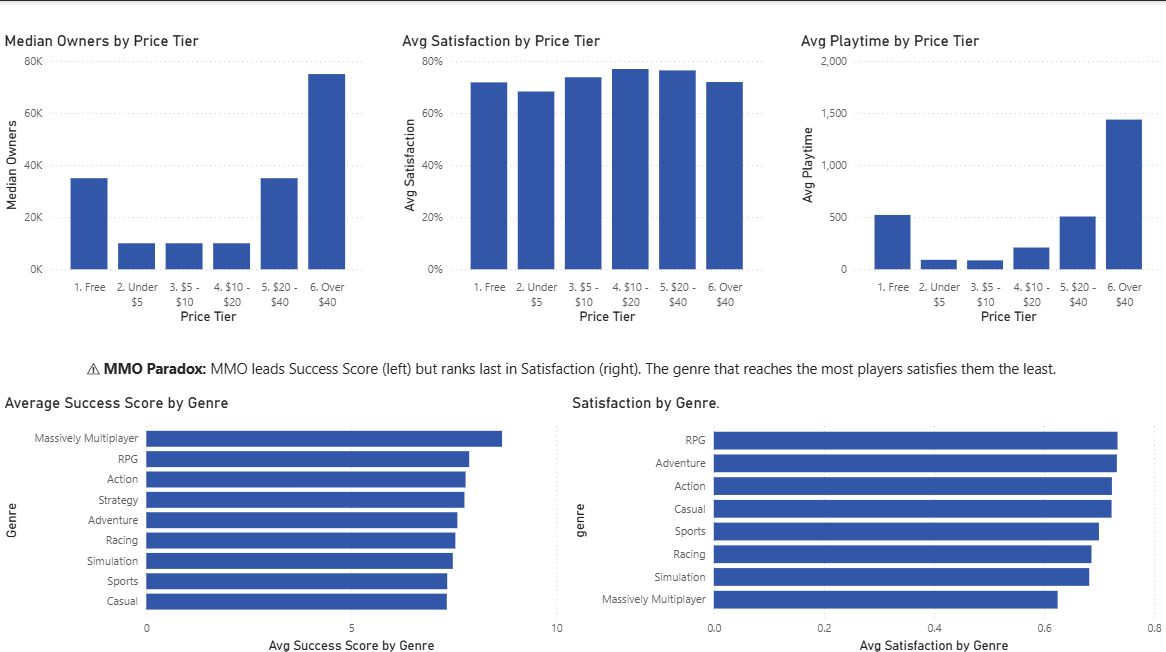

The dashboard page shown, as its layout file describes it:
{"tool":"powerbi","page":{"name":"Success Drivers","canvas":[1280,720],"ordinal":1},"visuals":[{"type":"clusteredColumnChart","fields":{"Category":["games.Price Tier"],"Y":["_Measures.Median Owners"]},"box":[0,32.9,406.2,326.6],"z":0},{"type":"clusteredColumnChart","fields":{"Category":["games.Price Tier"],"Y":["_Measures.Avg Satisfaction"]},"box":[436.4,32.9,406.2,326.6],"z":1000},{"type":"clusteredColumnChart","fields":{"Category":["games.Price Tier"],"Y":["_Measures.Avg Playtime"]},"box":[874.1,32.9,406.2,326.6],"z":2000},{"type":"barChart","title":"Average Success Score by Genre","fields":{"Category":["game_genres.genre"],"Y":["_Measures.Avg Success Score by Genre"]},"box":[0,430.9,623,289.5],"z":3000},{"type":"textbox","box":[90.6,387,1099.1,34.3],"z":4000},{"type":"clusteredBarChart","title":"Satisfaction by Genre.","fields":{"Y":["_Measures.Avg Satisfaction by Genre"],"Category":["game_genres.genre"]},"box":[623,430.9,657.3,289.5],"z":5000}]}

Visuals, with their boxes in screenshot pixels (x1, y1, x2, y2), scaled from the page's 1280x720 canvas onto the 1166x652 screenshot:
clusteredColumnChart - games.Price Tier x _Measures.Median Owners: bbox=[0, 30, 370, 326]
clusteredColumnChart - games.Price Tier x _Measures.Avg Satisfaction: bbox=[398, 30, 768, 326]
clusteredColumnChart - games.Price Tier x _Measures.Avg Playtime: bbox=[796, 30, 1165, 326]
"Average Success Score by Genre" barChart: bbox=[0, 390, 568, 651]
textbox: bbox=[83, 350, 1084, 382]
"Satisfaction by Genre." clusteredBarChart: bbox=[568, 390, 1165, 651]
